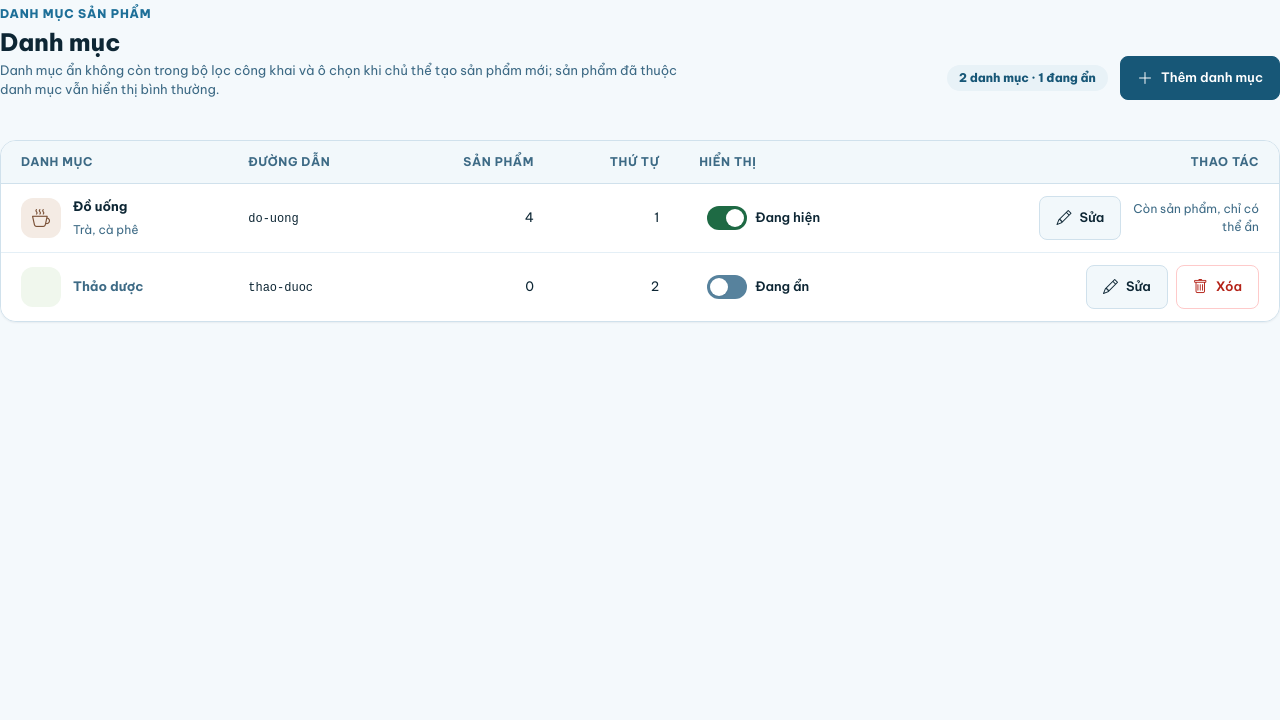
Test: AdminCategoriesView › chặn slug sai định dạng trước khi gửi
Click the button "Thêm danh mục" at [1200, 78], box [1120,56,1279,100]
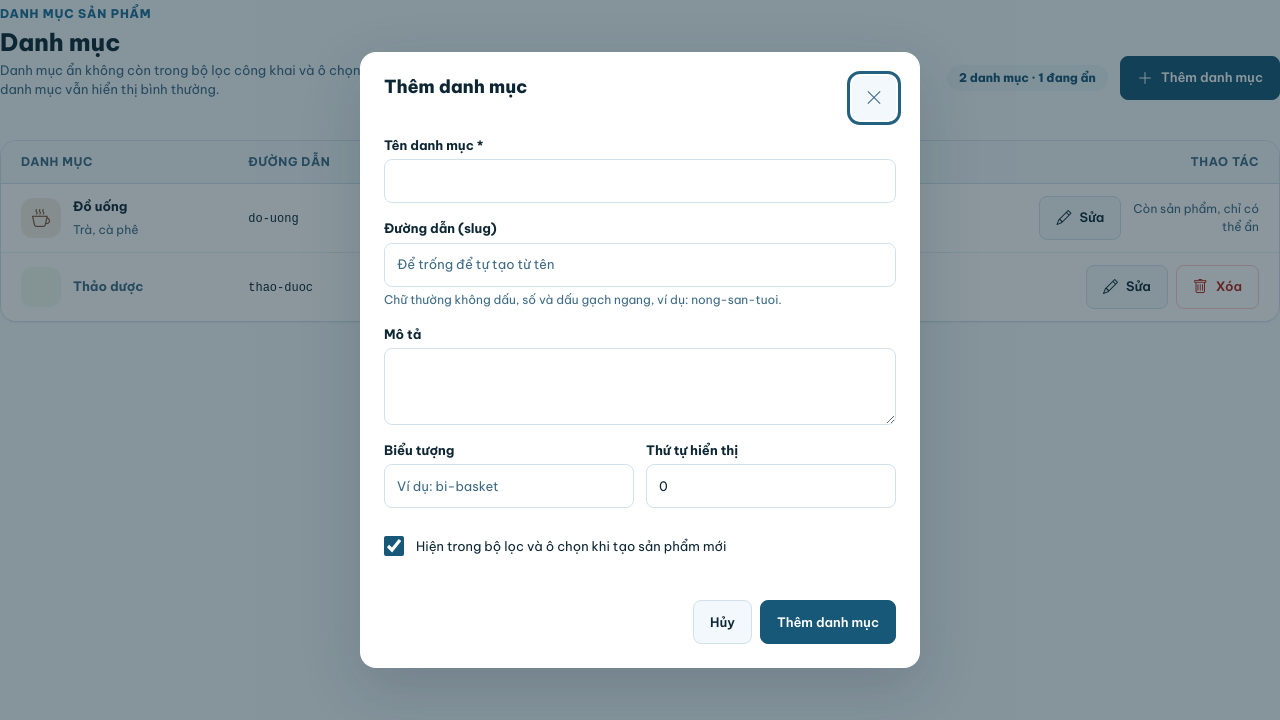
Type "Rau củ" into the field labelled "Tên danh mục *" at [640, 181], box [384,159,896,203]
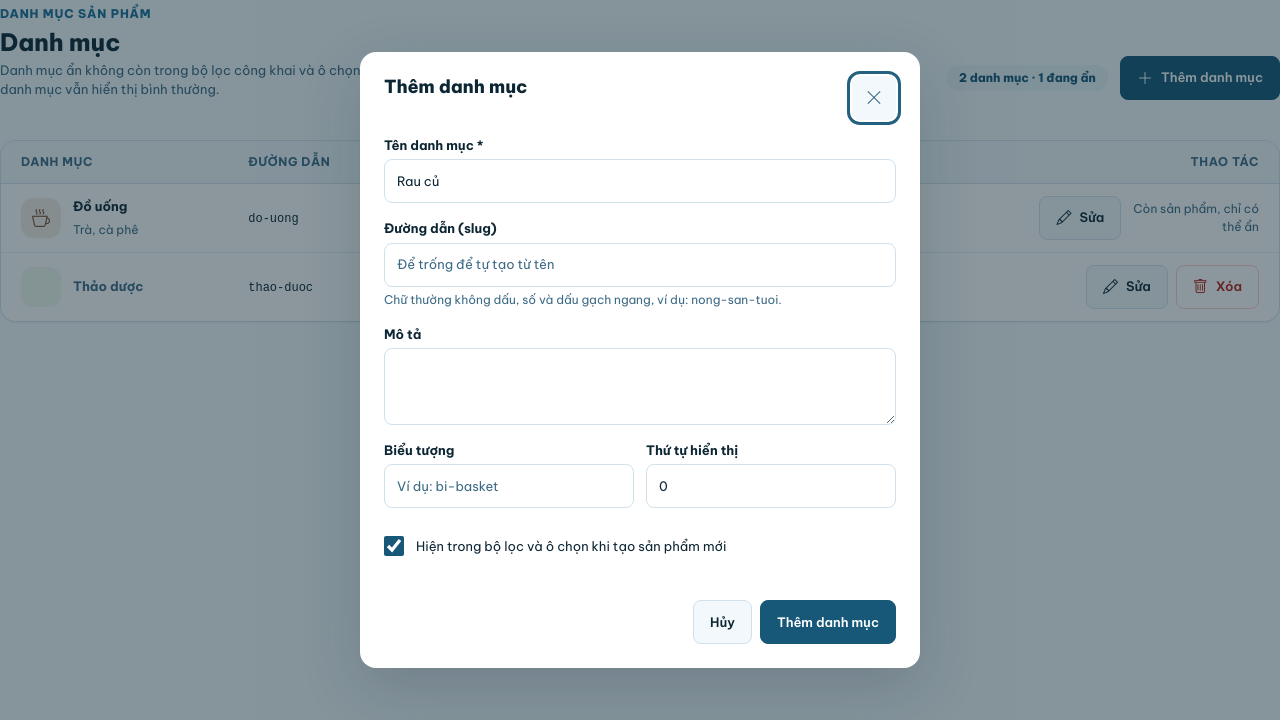
Type "rau củ" into the 2nd field at [640, 265], box [384,243,896,287]
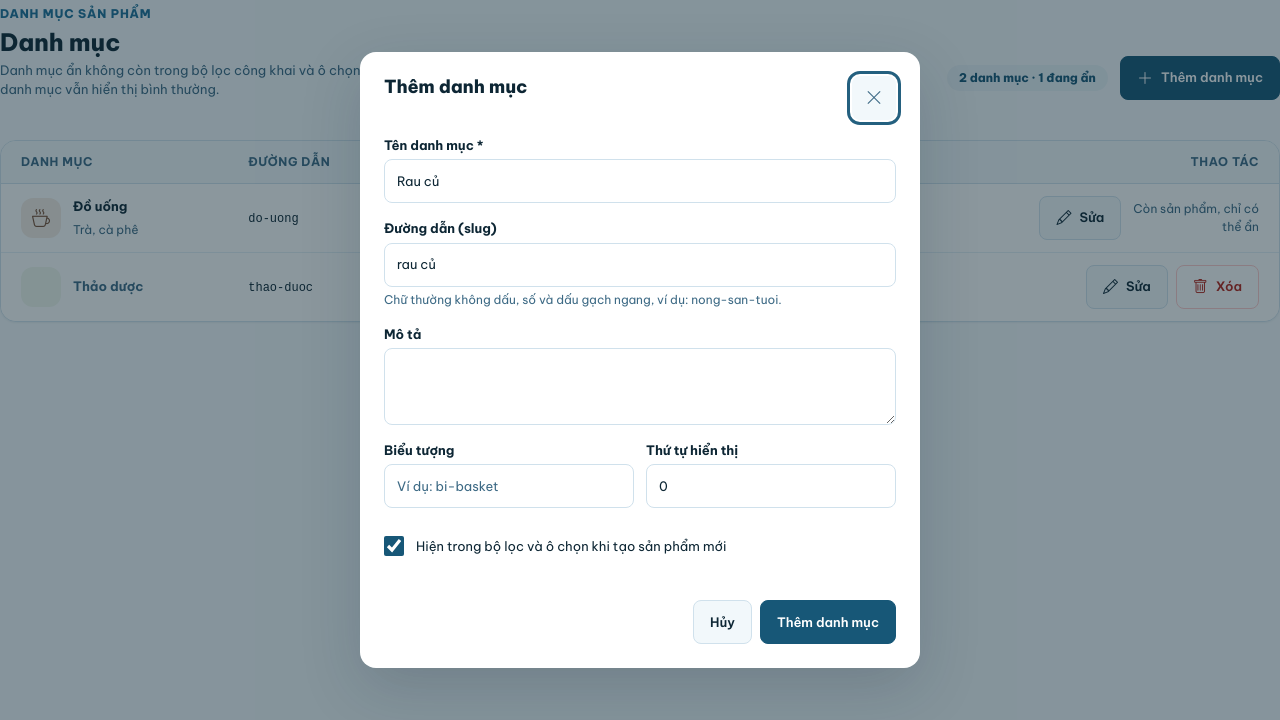
Submit the form, box [384,136,896,644]
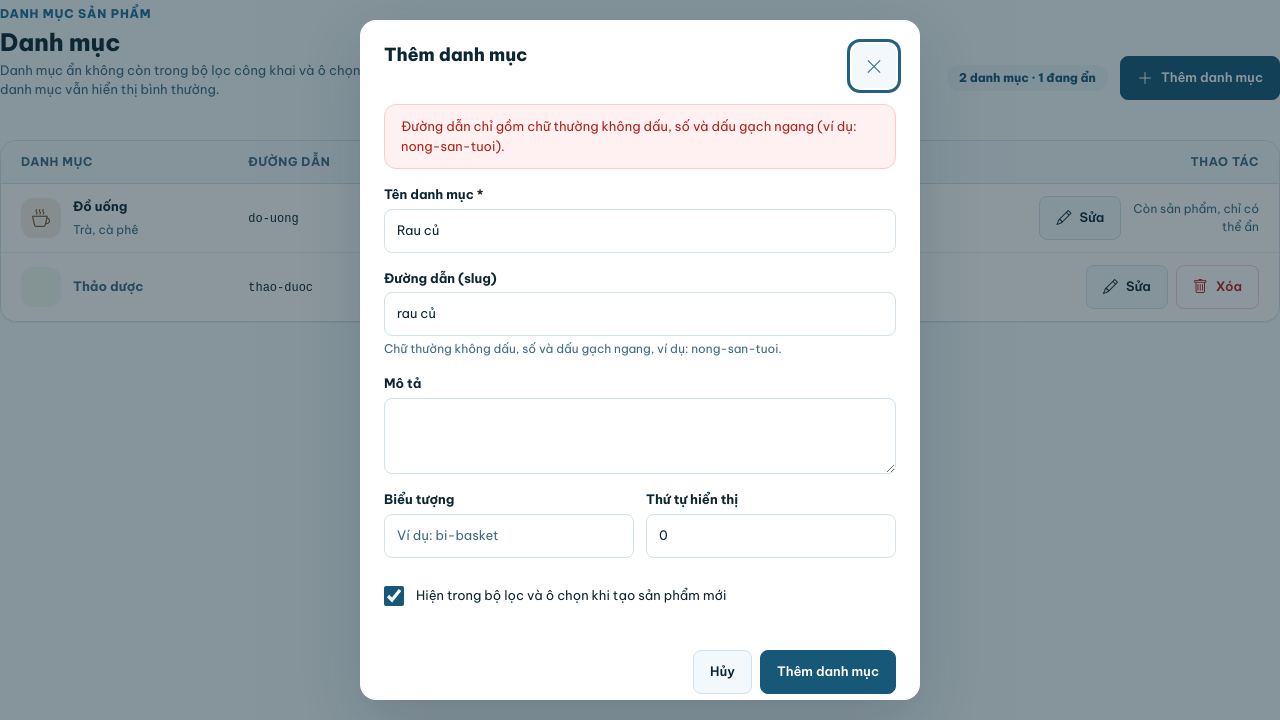
Now the message shows "Đường dẫn chỉ gồm chữ thường", box [401,118,857,154]
